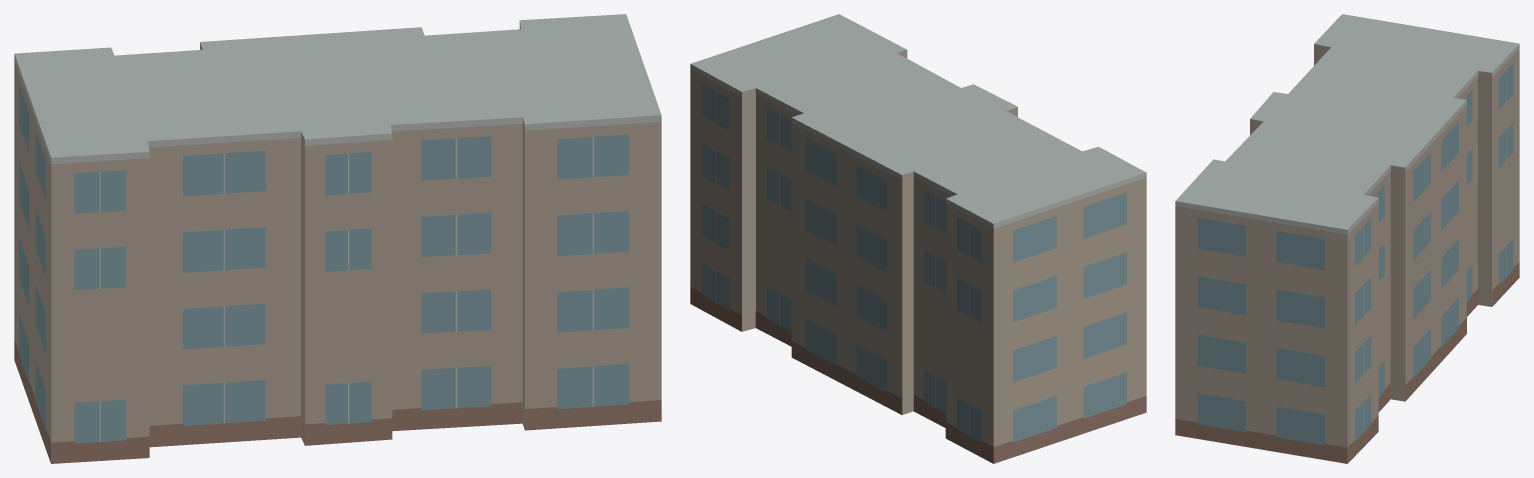
Rendered from survey-upis-32982516.glb.
The picture shows the model from 3 angles, left to right: view 1: azimuth 30°, elevation 25°; view 2: azimuth 150°, elevation 25°; view 3: azimuth 270°, elevation 25°; orthographic projection. The views are drawn at different scales.
Visible parts, largest first — view 1: survey-upis-32982516.tmp; view 2: survey-upis-32982516.tmp; view 3: survey-upis-32982516.tmp.
Boxes of the visible parts, x1,y1,x2,y2 form: survey-upis-32982516.tmp: (14, 14, 661, 463); survey-upis-32982516.tmp: (690, 14, 1146, 463); survey-upis-32982516.tmp: (1175, 14, 1519, 463).
Size of the model in its own units: 22.75 by 11.5 by 15.34.
